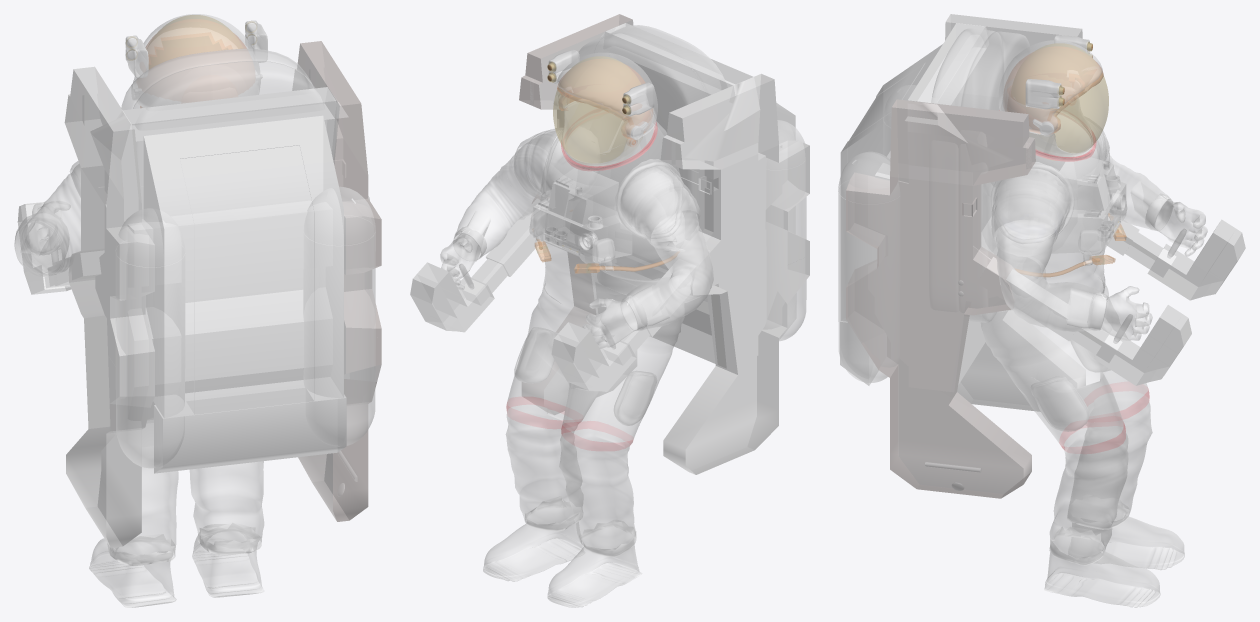
Rendered from ExtravehicularMobilityUnit.glb.
The picture shows the model from 3 angles, left to right: view 1: azimuth 30°, elevation 25°; view 2: azimuth 150°, elevation 25°; view 3: azimuth 270°, elevation 25°; orthographic projection. The views are drawn at different scales.
Parts seen in each view (by area): view 1: Extravehicular Mobility Unit; view 2: Extravehicular Mobility Unit; view 3: Extravehicular Mobility Unit.
Part boxes in pixels (bbox=[...]): Extravehicular Mobility Unit: bbox=[14, 14, 381, 607]; Extravehicular Mobility Unit: bbox=[410, 14, 809, 607]; Extravehicular Mobility Unit: bbox=[838, 14, 1245, 607].
Size of the model in its own units: 1.13 by 2 by 1.41.
